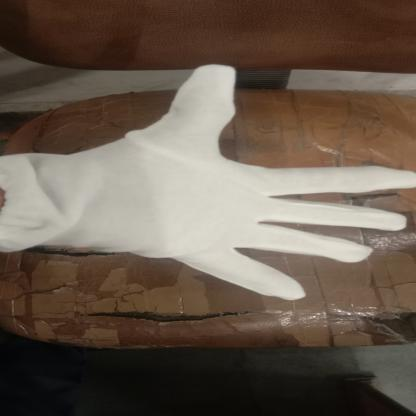gloved_hand: (0, 60, 416, 302)
